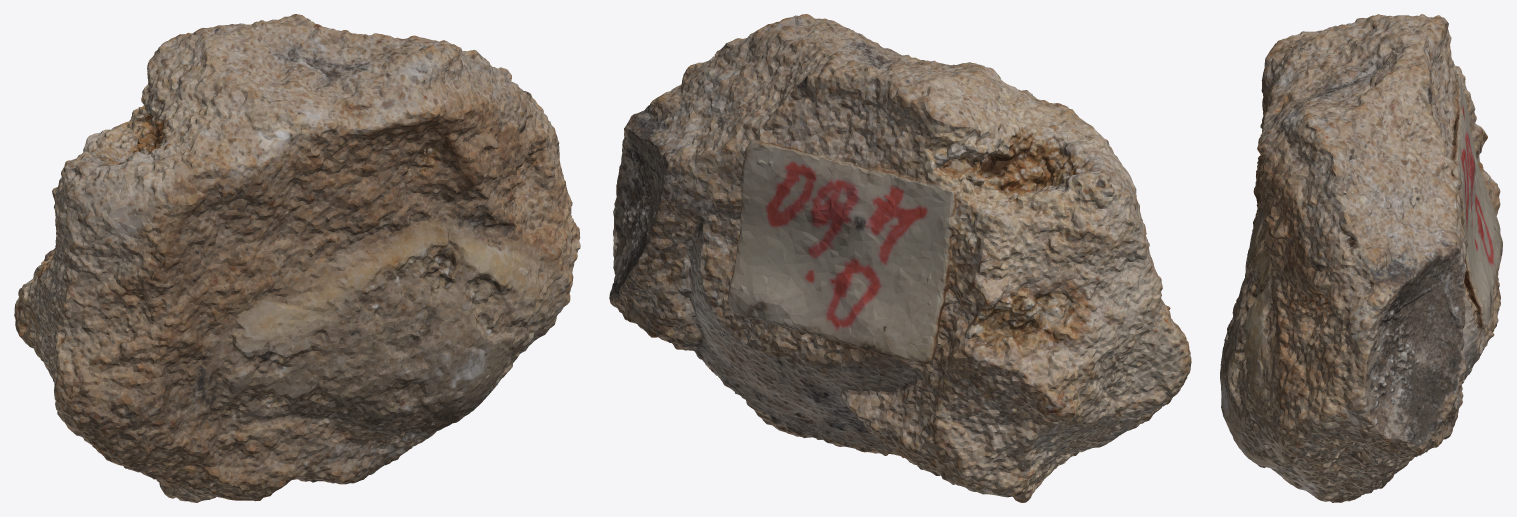
File: EWS0014097.glb
The picture shows the model from 3 angles, left to right: view 1: azimuth 30°, elevation 25°; view 2: azimuth 150°, elevation 25°; view 3: azimuth 270°, elevation 25°; orthographic projection. The views are drawn at different scales.
Visible parts, largest first — view 1: input; view 2: input; view 3: input.
Part boxes in pixels (x1,y1,x2,y2): input: [14, 14, 580, 502]; input: [609, 14, 1191, 502]; input: [1220, 14, 1502, 502].
Bounding box in the file's own units: 0.0243 × 0.0183 × 0.0112.
1 material, 1 textured.
